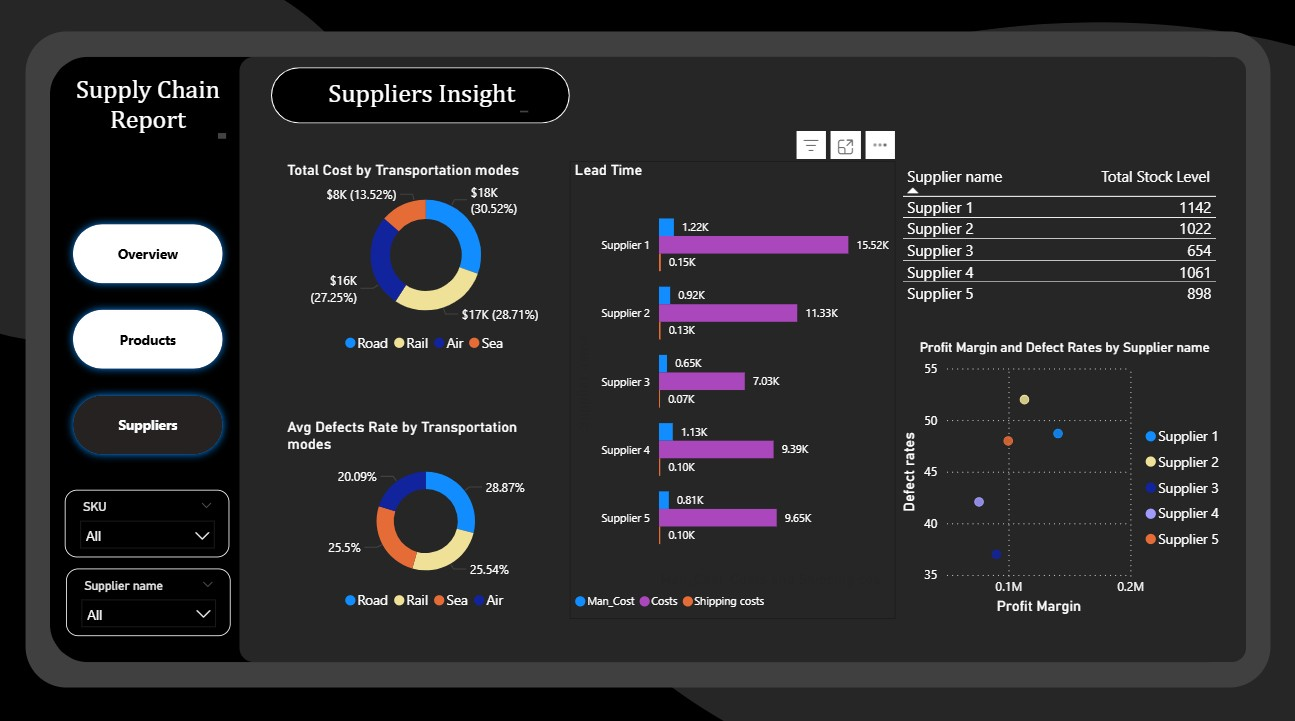

Layout of this report page (visuals, bound fields, positions):
{"tool":"powerbi","page":{"name":"Suppliers","canvas":[1280,720],"ordinal":2},"visuals":[{"type":"group","id":"g1","title":"Group 1","box":[269.9,69.9,293.3,55.2],"z":0},{"type":"shape","box":[269.9,69.9,293.3,55.2],"z":0,"group":"g1"},{"type":"textbox","title":"Suppliers Insight","box":[308,82.2,219.6,36.8],"z":1000,"group":"g1"},{"type":"donutChart","fields":{"Y":["Measure.Total Cost"],"Category":["supply_chain_data.Transportation modes"]},"box":[281,162,282.2,197.5],"z":1000},{"type":"donutChart","fields":{"Y":["Measure.Avg Defects Rate"],"Category":["supply_chain_data.Transportation modes"]},"box":[281,414.7,282.2,197.5],"z":2000},{"type":"clusteredBarChart","title":"Lead Time","fields":{"Category":["supply_chain_data.Supplier name"],"Y":["Sum(supply_chain_data.Man_Cost)","Sum(supply_chain_data.Costs)","Sum(supply_chain_data.Shipping costs)"]},"box":[563.2,162,320.2,450.3],"z":3000},{"type":"tableEx","fields":{"Values":["supply_chain_data.Supplier name","Measure.Total Stock Level"]},"box":[883.4,162,331.3,176.7],"z":4000},{"type":"scatterChart","title":"Profit Margin and Defect Rates by Supplier name","fields":{"Series":["supply_chain_data.Supplier name"],"X":["Sum(supply_chain_data.Profit Margin)"],"Y":["Sum(supply_chain_data.Defect rates)"]},"box":[883.4,337.4,331.3,274.8],"z":5000},{"type":"slicer","fields":{"Values":["supply_chain_data.SKU"]},"box":[67.5,484.7,162,66.3],"z":6000},{"type":"slicer","fields":{"Values":["supply_chain_data.Supplier name"]},"box":[68.7,562,162,66.3],"z":7000},{"type":"pageNavigator","box":[67.5,216,163.2,242.9],"z":8000},{"type":"textbox","title":"Supply Chain Report","box":[67.5,78.5,163.2,66.3],"z":9000}]}

Visuals, with their boxes in screenshot pixels (x1, y1, x2, y2), scaled from the page's 1280x720 canvas onto the 1295x721 screenshot:
"Group 1" group: BBox(273, 70, 570, 125)
shape: BBox(273, 70, 570, 125)
"Suppliers Insight" textbox: BBox(312, 82, 534, 119)
donutChart - Measure.Total Cost x supply_chain_data.Transportation modes: BBox(284, 162, 570, 360)
donutChart - Measure.Avg Defects Rate x supply_chain_data.Transportation modes: BBox(284, 415, 570, 613)
"Lead Time" clusteredBarChart: BBox(570, 162, 894, 613)
tableEx - supply_chain_data.Supplier name x Measure.Total Stock Level: BBox(894, 162, 1229, 339)
"Profit Margin and Defect Rates by Supplier name" scatterChart: BBox(894, 338, 1229, 613)
slicer - supply_chain_data.SKU: BBox(68, 485, 232, 552)
slicer - supply_chain_data.Supplier name: BBox(70, 563, 233, 629)
pageNavigator: BBox(68, 216, 233, 460)
"Supply Chain Report" textbox: BBox(68, 79, 233, 145)
